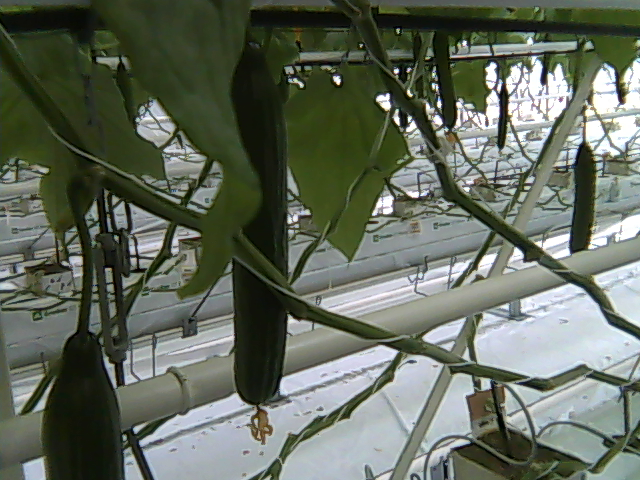concombre: (230, 40, 294, 447), (37, 327, 130, 480)
